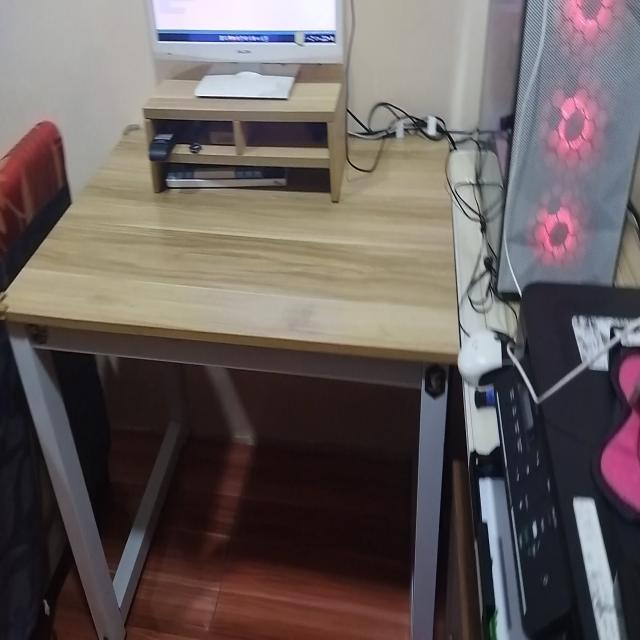table: (4, 111, 464, 640)
